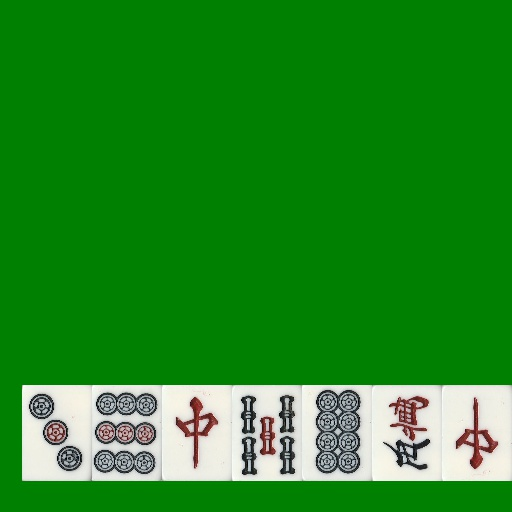3p: (22, 385, 92, 481)
5m: (372, 385, 442, 481)
5s: (232, 385, 302, 481)
8p: (302, 385, 372, 481)
9p: (92, 385, 162, 481)
tyun: (162, 385, 232, 481), (442, 385, 512, 481)
